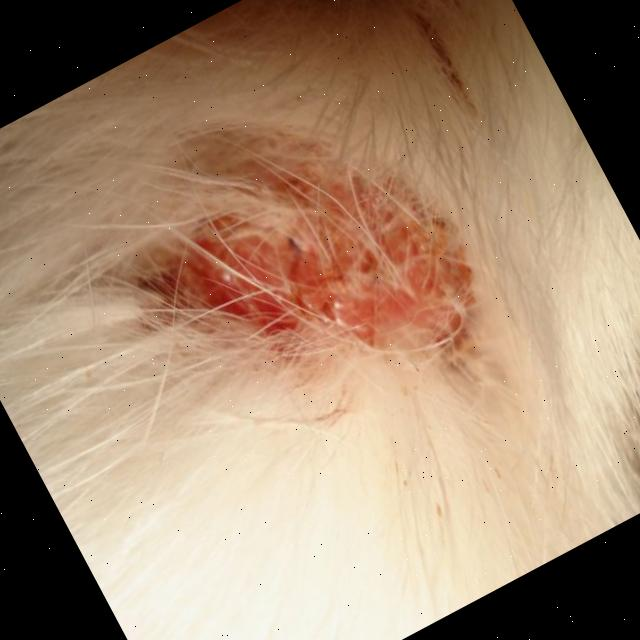cat-ringworm: (102, 77, 516, 469)
